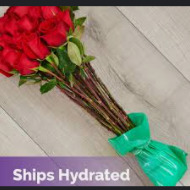RedRose: (10, 48, 42, 79), (37, 17, 70, 47), (22, 32, 54, 59)
